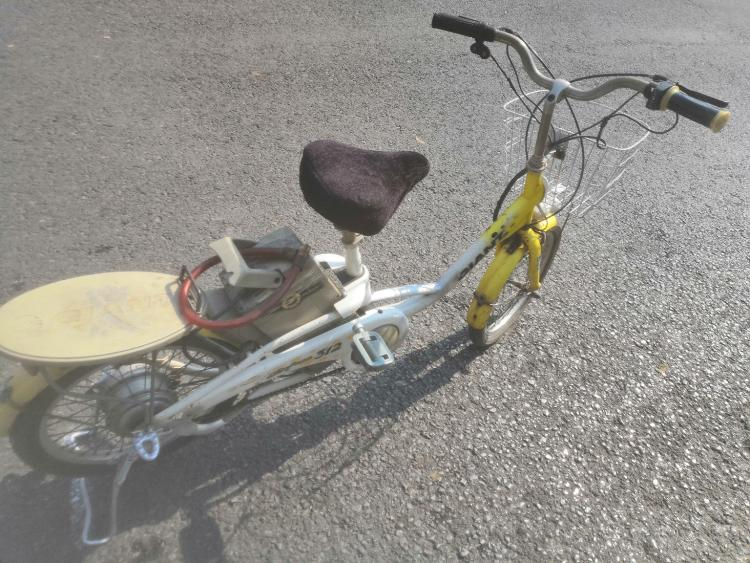电动车: (1, 13, 728, 548)
